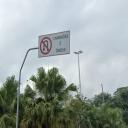NoVirarU: (40, 37, 52, 55)
